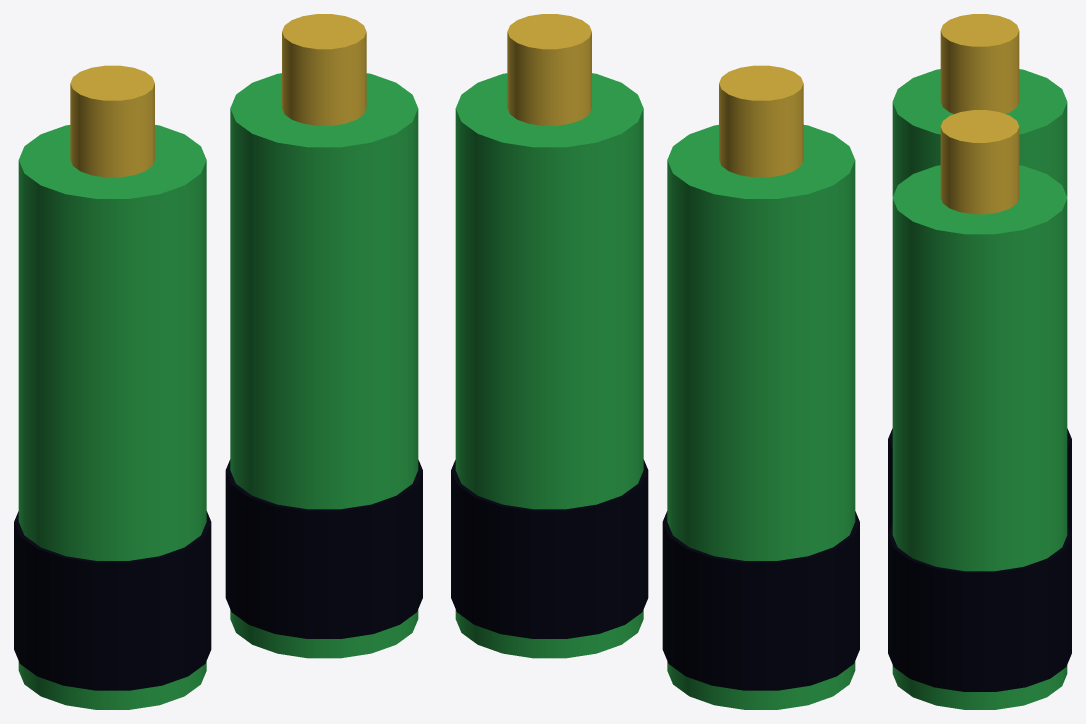
Rendered from item_batteries.fbx.
The picture shows the model from 3 angles, left to right: view 1: azimuth 30°, elevation 25°; view 2: azimuth 150°, elevation 25°; view 3: azimuth 270°, elevation 25°; orthographic projection. The views are drawn at different scales.
Parts seen in each view (by area): view 1: M__item_batteries; view 2: M__item_batteries; view 3: M__item_batteries.
Boxes of the visible parts, box(x1,y1,x2,y2) form: M__item_batteries: box(14, 14, 422, 709); M__item_batteries: box(451, 14, 859, 709); M__item_batteries: box(888, 14, 1071, 709).
Bounding box in the file's own units: 0.0934 × 0.138 × 0.042.
